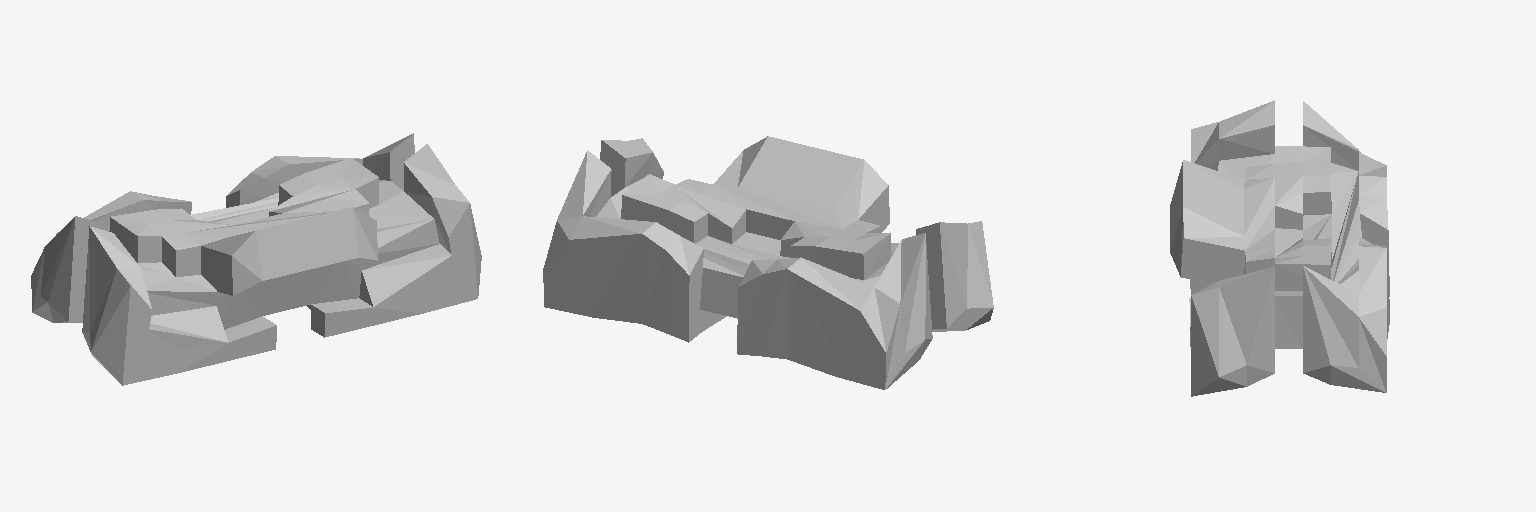
File: TeleporterBot_LOD0-2.obj
3 renders of one model, left to right at view 1: azimuth 30°, elevation 25°; view 2: azimuth 150°, elevation 25°; view 3: azimuth 270°, elevation 25°, orthographic.
Visible parts, largest first — view 1: TeleporterBot_LOD0-2; view 2: TeleporterBot_LOD0-2; view 3: TeleporterBot_LOD0-2.
Part boxes in pixels (left/top/right/bottom): TeleporterBot_LOD0-2: left=31, top=133, right=481, bottom=385; TeleporterBot_LOD0-2: left=543, top=136, right=993, bottom=389; TeleporterBot_LOD0-2: left=1170, top=100, right=1389, bottom=396.
Size of the model in its own units: 1.62 by 0.5785 by 0.7881.